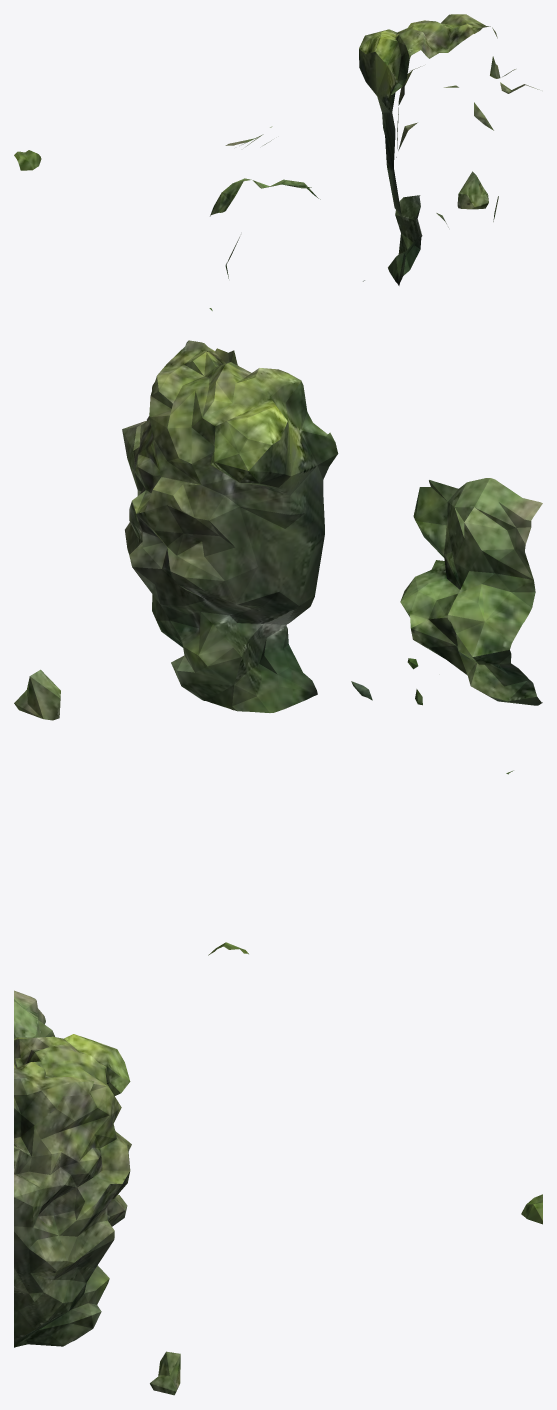
3 renders of one model, top to bottom at view 1: azimuth 30°, elevation 25°; view 2: azimuth 150°, elevation 25°; view 3: azimuth 270°, elevation 25°, orthographic. The views are drawn at different scales.
Size of the model in its own units: 22.07 by 15.79 by 26.11.
2 materials, 2 textured.
